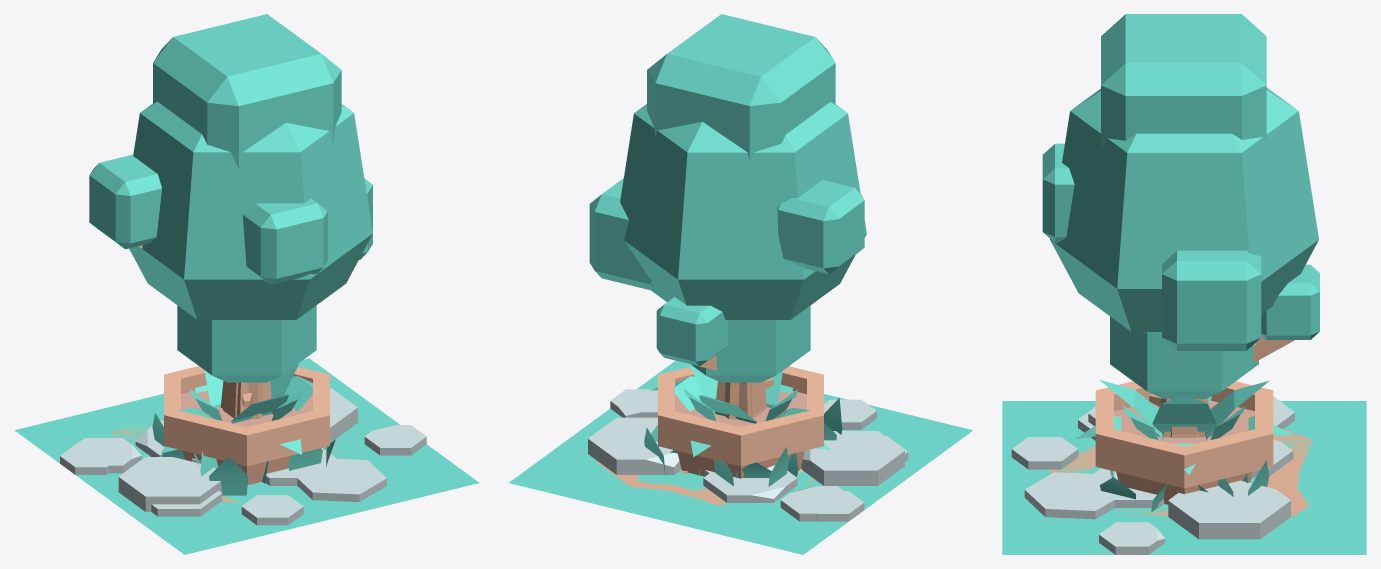
The model's file is nature.glb.
3 views of the same model, side by side, from view 1: azimuth 30°, elevation 25°; view 2: azimuth 150°, elevation 25°; view 3: azimuth 270°, elevation 25° (orthographic). The views are drawn at different scales.
Visible parts, largest first — view 1: tree_oak, tree_detailed, ground_grass, pot_large, path_stone, ground_pathTile, tree_small, path_stoneCorner, plant_bushDetailed, grass_leafsLarge, plant_bushLarge; view 2: tree_oak, tree_detailed, ground_grass, path_stone, pot_large, ground_pathTile, tree_small, plant_bushDetailed, path_stoneCorner, grass_leafsLarge, plant_bushLarge; view 3: tree_oak, tree_detailed, ground_grass, ground_pathTile, pot_large, path_stone, tree_small, path_stoneCorner, plant_bushDetailed, grass_leafsLarge, plant_bushLarge.
Part boxes in pixels (x1,y1,x2,y2): tree_oak: (129,101,372,418); tree_detailed: (89,14,372,415); ground_grass: (14,358,479,554); pot_large: (164,366,329,484); path_stone: (60,387,426,511); ground_pathTile: (16,358,478,554); tree_small: (177,305,316,382); path_stoneCorner: (76,438,386,525); plant_bushDetailed: (160,363,332,454); grass_leafsLarge: (152,413,335,495); plant_bushLarge: (190,389,303,420); tree_oak: (620,102,866,473); tree_detailed: (589,14,864,416); ground_grass: (509,360,972,554); path_stone: (588,389,904,521); pot_large: (658,366,823,478); ground_pathTile: (510,361,971,554); tree_small: (691,305,810,382); plant_bushDetailed: (650,364,831,457); path_stoneCorner: (767,399,908,521); grass_leafsLarge: (644,398,842,486); plant_bushLarge: (684,389,797,421); tree_oak: (1050,88,1318,437); tree_detailed: (1042,14,1319,437); ground_grass: (1002,401,1366,554); ground_pathTile: (1002,401,1366,554); pot_large: (1095,381,1273,504); path_stone: (1083,396,1293,554); tree_small: (1110,316,1258,398); path_stoneCorner: (1011,397,1294,519); plant_bushDetailed: (1075,379,1293,474); grass_leafsLarge: (1099,460,1269,512); plant_bushLarge: (1123,396,1245,439).
Size of the model in its own units: 1 by 1.38 by 1.
